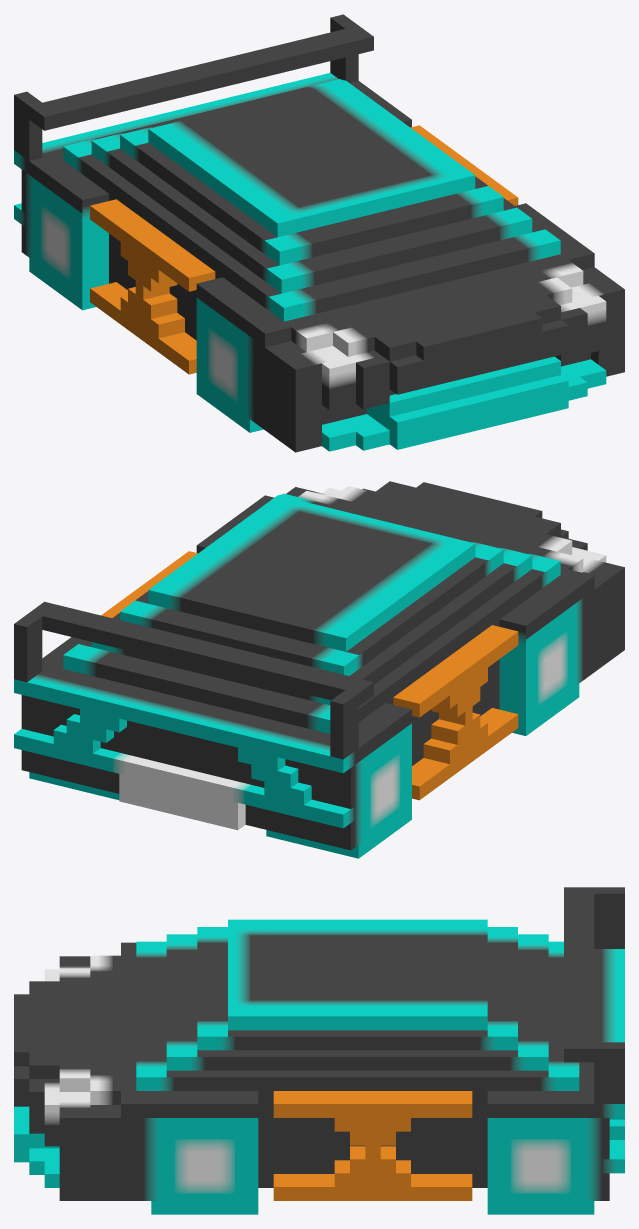
The model's file is Car_26.fbx.
3 views of the same model, one above another, from view 1: azimuth 30°, elevation 25°; view 2: azimuth 150°, elevation 25°; view 3: azimuth 270°, elevation 25° (orthographic).
Visible parts, largest first — view 1: Car_26; view 2: Car_26; view 3: Car_26.
Part boxes in pixels (box(x1,y1,x2,y2)): Car_26: box(14, 14, 624, 452); Car_26: box(14, 481, 624, 858); Car_26: box(14, 887, 624, 1214).
Bounding box in the file's own units: 25 × 12 × 40.
1 material, 1 textured.
